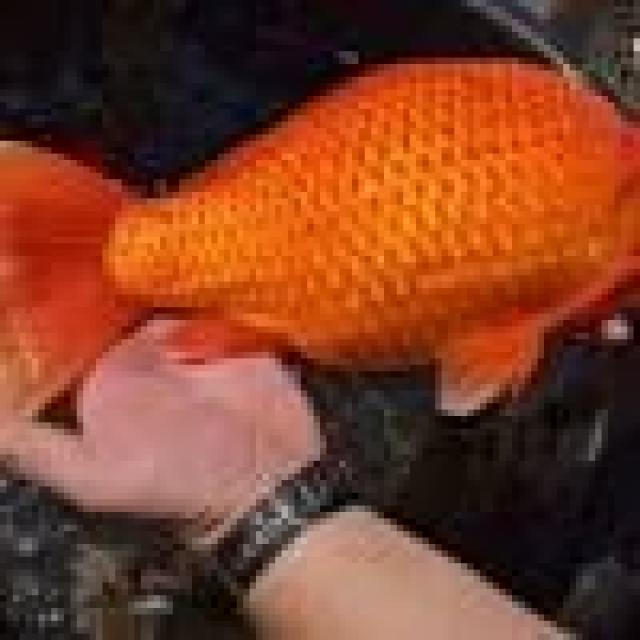Gold-Fish: (0, 39, 640, 562)
